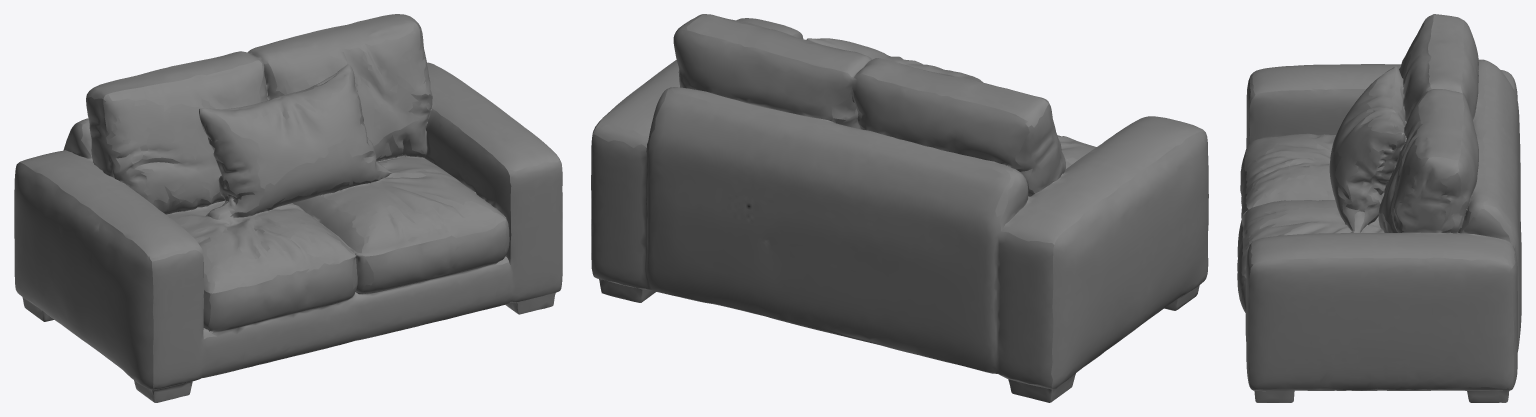
Rendered from completion_sofa_2.glb.
3 views of the same model, side by side, from view 1: azimuth 30°, elevation 25°; view 2: azimuth 150°, elevation 25°; view 3: azimuth 270°, elevation 25° (orthographic). The views are drawn at different scales.
Visible parts, largest first — view 1: geometry_0; view 2: geometry_0; view 3: geometry_0.
Part boxes in pixels (x1,y1,x2,y2): geometry_0: [14, 14, 562, 402]; geometry_0: [591, 14, 1208, 402]; geometry_0: [1237, 14, 1521, 402].
Bounding box in the file's own units: 1 × 0.5155 × 0.5947.
1 material, 1 textured.
